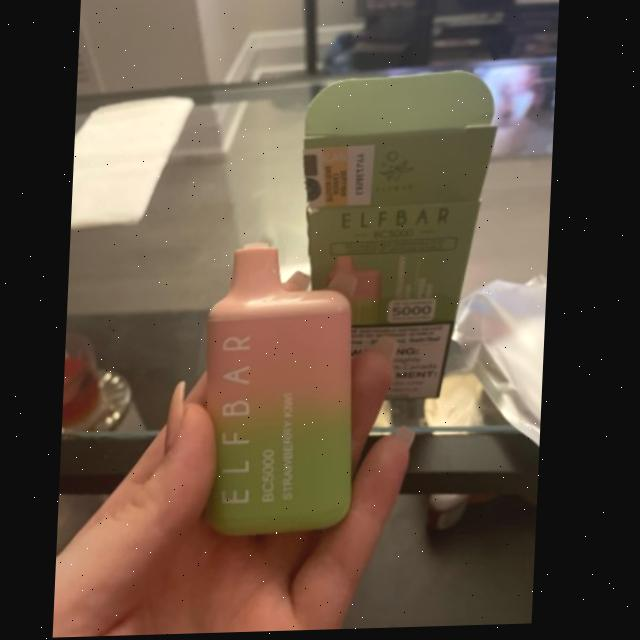vape: (201, 246, 365, 540)
